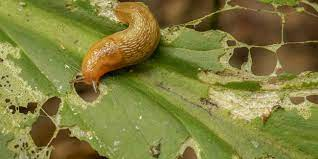slug: (79, 1, 161, 86)
